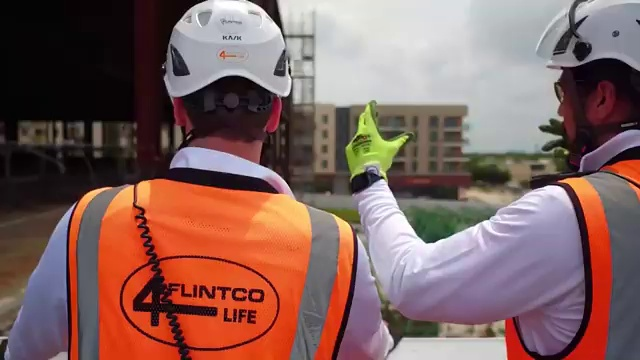helmet: (148, 1, 291, 107)
jacket: (73, 175, 356, 360)
